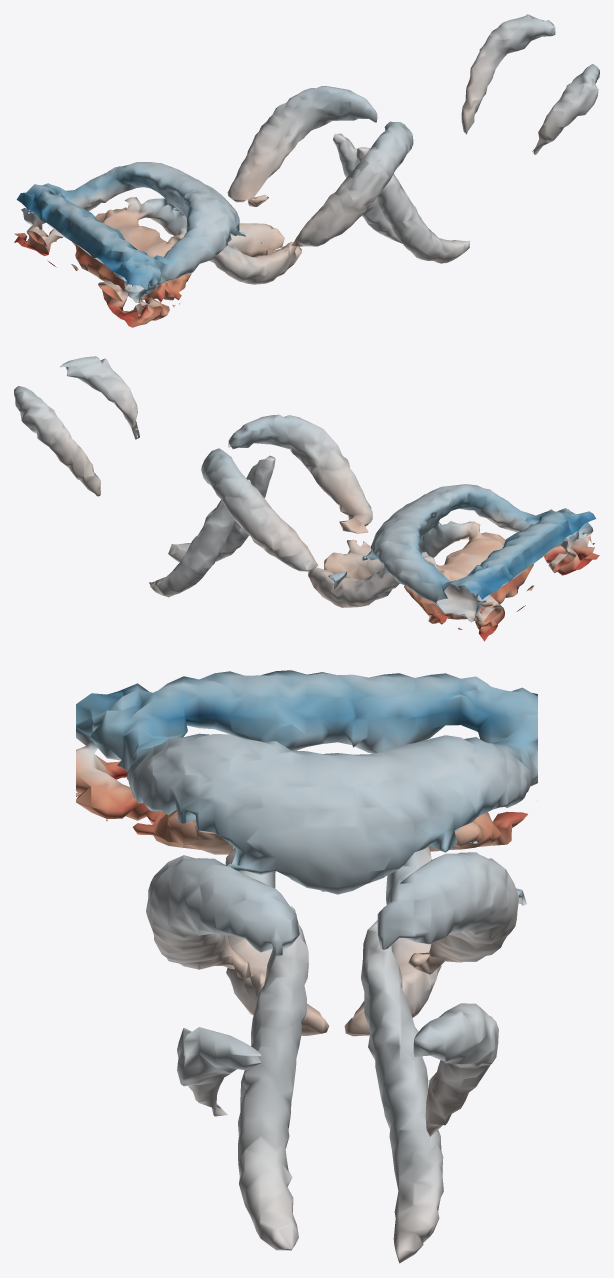
3 renders of one model, top to bottom at view 1: azimuth 30°, elevation 25°; view 2: azimuth 150°, elevation 25°; view 3: azimuth 270°, elevation 25°, orthographic. The views are drawn at different scales.
Size of the model in its own units: 6.22 by 2.17 by 2.5.
